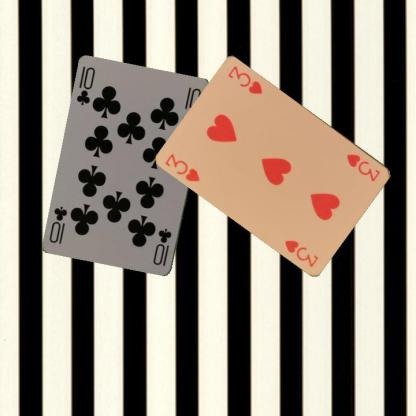10c: (74, 63, 97, 107), (150, 226, 173, 267)
3h: (163, 151, 202, 183), (344, 152, 382, 182)
